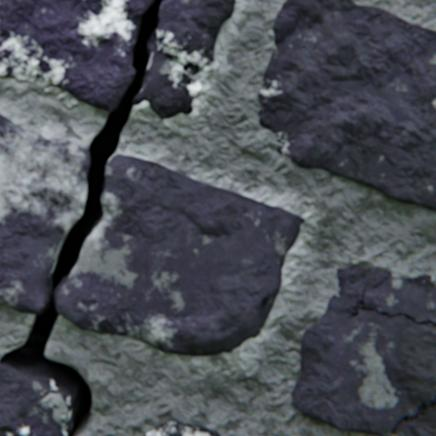brick: (257, 0, 435, 209), (290, 265, 435, 434), (0, 362, 67, 435), (390, 403, 435, 435), (146, 420, 221, 435)
broken_brick: (56, 154, 303, 355), (0, 114, 89, 313), (0, 0, 153, 111), (133, 0, 234, 118)
crack: (0, 0, 162, 435), (382, 394, 435, 435), (350, 300, 435, 324), (359, 288, 364, 303)
